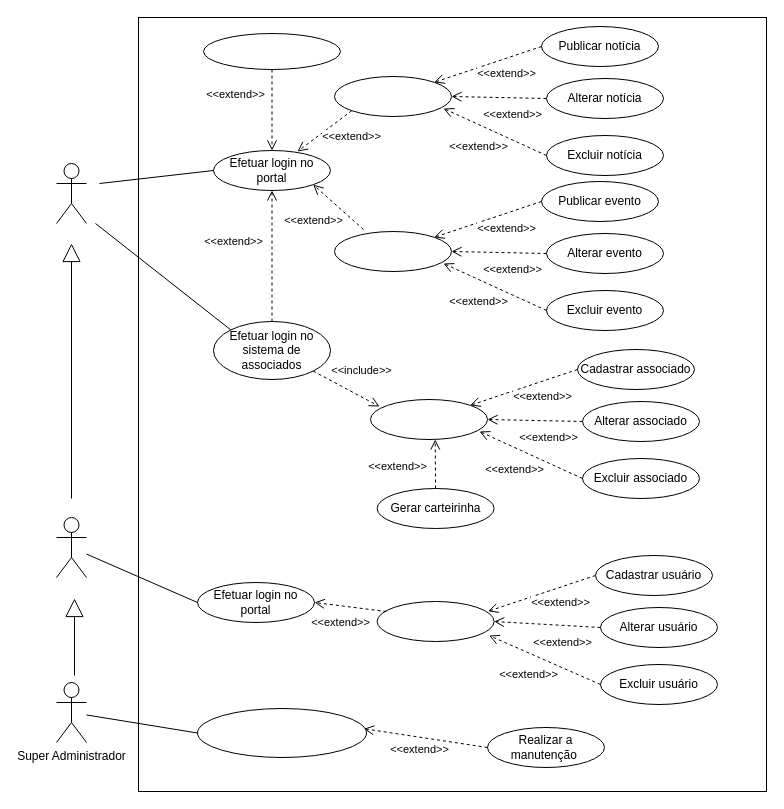
Some shapes in this 784 by 809 pixel diagram are drawn without their labels. The centre of each missing label's shape, as x and y in pixels:
Alterar conteúdo das páginas: point 271,51
Consultar associados: point 429,419
Consultar eventos: point 393,251
Consultar notícias: point 393,96
Efetuar login na VPS ou no sistema inconsistente: point 281,733
Gerenciar usuários: point 435,621
Presidente: point 71,547
Secretário: point 71,193
